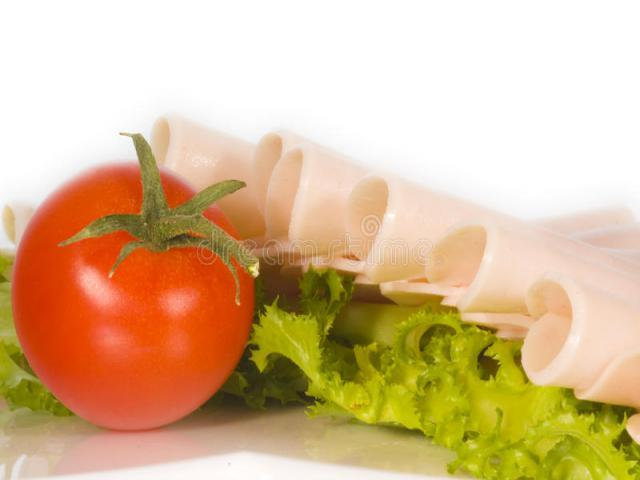tomato: (11, 158, 262, 441)
